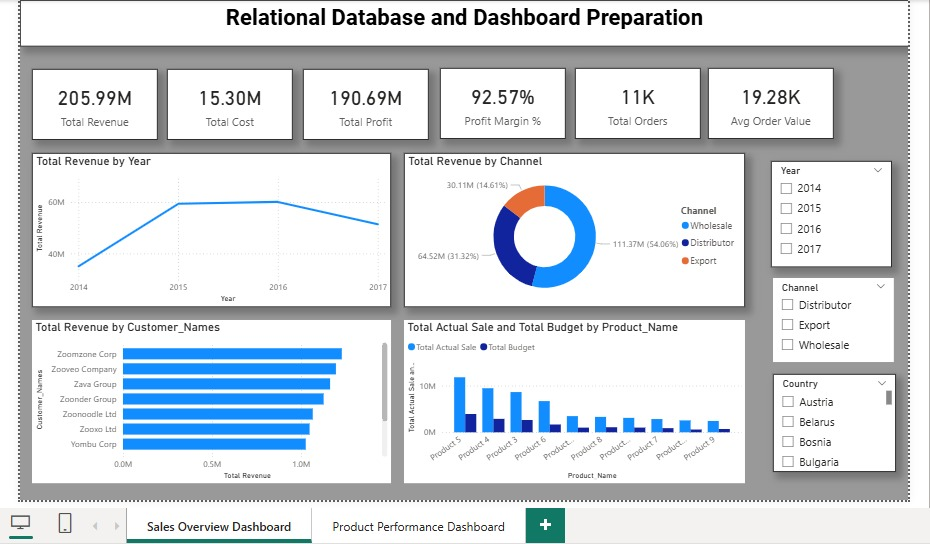

This screenshot's page, from the dashboard's own definition file:
{"tool":"powerbi","page":{"name":"Sales Overview Dashboard","canvas":[1280,720],"ordinal":0},"visuals":[{"type":"card","fields":{"Values":["DaX Measure.Total Revenue"]},"box":[17,98.9,180.9,102],"z":0},{"type":"card","fields":{"Values":["DaX Measure.Total Cost"]},"box":[259.7,307.6,179.3,103.6],"z":1000},{"type":"lineChart","fields":{"Category":["SalesOrder.OrderDate.Variation.Date Hierarchy.Year"],"Y":["DaX Measure.Total Revenue"]},"box":[17.3,220.3,517,221.8],"z":2000},{"type":"donutChart","fields":{"Category":["SalesOrder.Channel"],"Y":["DaX Measure.Total Revenue"]},"box":[553,220.3,491,221.8],"z":3000},{"type":"slicer","fields":{"Values":["SalesOrder.OrderDate.Variation.Date Hierarchy.Year"]},"box":[1081.4,231.8,174.2,152.6],"z":4000},{"type":"slicer","fields":{"Values":["Regions.Country"]},"box":[1084.3,538.6,177.1,141.1],"z":5000},{"type":"textbox","box":[0,0,1280,67.2],"z":6000},{"type":"clusteredBarChart","fields":{"Y":["DaX Measure.Total Revenue"],"Category":["Customers.Customer_Names"]},"box":[17.3,460.8,517,234.7],"z":7000},{"type":"clusteredColumnChart","fields":{"Category":["Budgets2017.Product_Name"],"Y":["DaX Measure.Total Actual Sale","DaX Measure.Total Budget"]},"box":[553,460.8,491,234.7],"z":8000},{"type":"slicer","fields":{"Values":["SalesOrder.Channel"]},"box":[1084.3,400.3,174.2,121],"z":9000},{"type":"card","fields":{"Values":["DaX Measure.Total Cost"]},"box":[211.8,98.9,180.9,102],"z":10000},{"type":"card","fields":{"Values":["DaX Measure.Total Profit"]},"box":[408.1,98.9,180.9,102],"z":11000},{"type":"card","fields":{"Values":["DaX Measure.Profit Margin %"]},"box":[604.4,97.4,180.9,102],"z":12000},{"type":"card","fields":{"Values":["DaX Measure.Total Orders"]},"box":[799.2,97.4,180.9,102],"z":13000},{"type":"card","fields":{"Values":["DaX Measure.Avg Order Value"]},"box":[990.9,97.4,180.9,102],"z":14000}]}

Visuals, with their boxes in screenshot pixels (x1, y1, x2, y2):
card - DaX Measure.Total Revenue: box=[31, 68, 156, 139]
card - DaX Measure.Total Cost: box=[199, 213, 323, 284]
lineChart - SalesOrder.OrderDate.Variation.Date Hierarchy.Year x DaX Measure.Total Revenue: box=[31, 152, 389, 306]
donutChart - SalesOrder.Channel x DaX Measure.Total Revenue: box=[402, 152, 741, 306]
slicer - SalesOrder.OrderDate.Variation.Date Hierarchy.Year: box=[767, 160, 887, 266]
slicer - Regions.Country: box=[769, 372, 891, 470]
textbox: box=[19, 0, 904, 46]
clusteredBarChart - DaX Measure.Total Revenue x Customers.Customer_Names: box=[31, 318, 389, 481]
clusteredColumnChart - Budgets2017.Product_Name x DaX Measure.Total Actual Sale: box=[402, 318, 741, 481]
slicer - SalesOrder.Channel: box=[769, 277, 889, 360]
card - DaX Measure.Total Cost: box=[166, 68, 291, 139]
card - DaX Measure.Total Profit: box=[301, 68, 426, 139]
card - DaX Measure.Profit Margin %: box=[437, 67, 562, 138]
card - DaX Measure.Total Orders: box=[572, 67, 697, 138]
card - DaX Measure.Avg Order Value: box=[704, 67, 829, 138]
